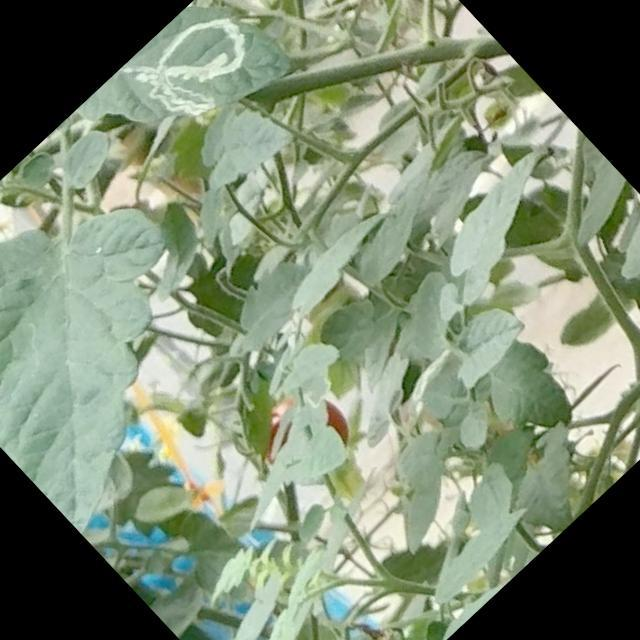Tomato healthy leaf: (0, 143, 283, 536)
Tomato target spot leaf: (73, 0, 305, 200)
